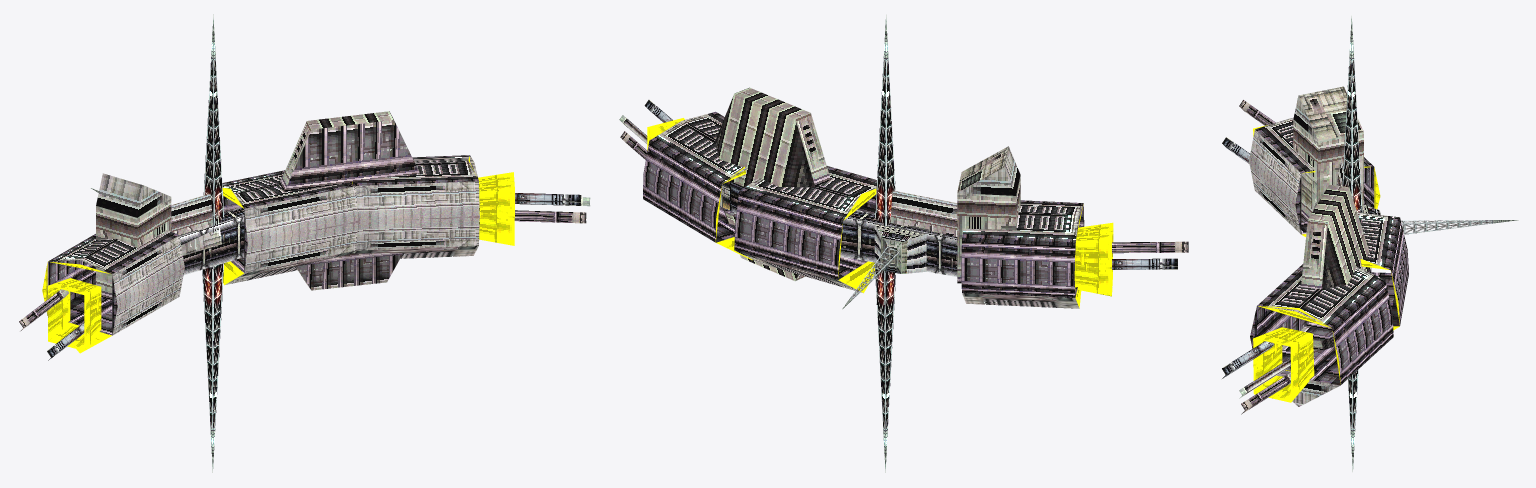
The model's file is toutpost_cmp.gltf.
3 renders of one model, left to right at view 1: azimuth 30°, elevation 25°; view 2: azimuth 150°, elevation 25°; view 3: azimuth 270°, elevation 25°, orthographic.
Parts seen in each view (by area): view 1: Root, connect_L2, connect_R2; view 2: Root, connect_R2, connect_L2; view 3: Root, connect_L2, connect_R2.
Part boxes in pixels (left/top/right/bottom): Root: left=42, top=14, right=514, bottom=472; connect_L2: left=514, top=193, right=590, bottom=223; connect_R2: left=19, top=289, right=84, bottom=360; Root: left=643, top=15, right=1113, bottom=472; connect_R2: left=1112, top=241, right=1188, bottom=269; connect_L2: left=619, top=99, right=672, bottom=159; Root: left=1249, top=16, right=1518, bottom=471; connect_L2: left=1221, top=341, right=1290, bottom=414; connect_R2: left=1222, top=100, right=1275, bottom=163.
Size of the model in its own units: 31.23 by 23.96 by 14.36.
Materials: 13 (13 with a texture image).
